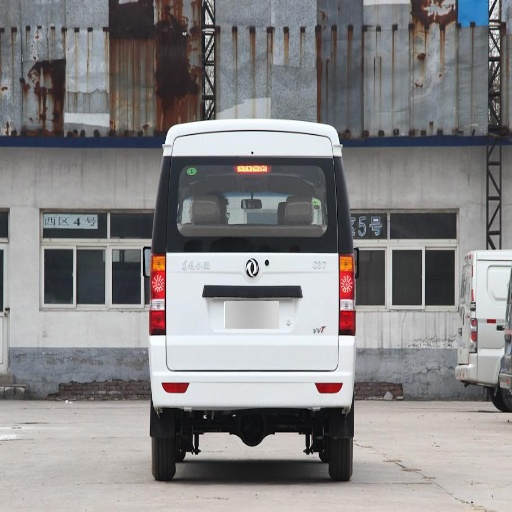back_bumper: (153, 348, 353, 410)
trunk: (164, 230, 339, 370)
